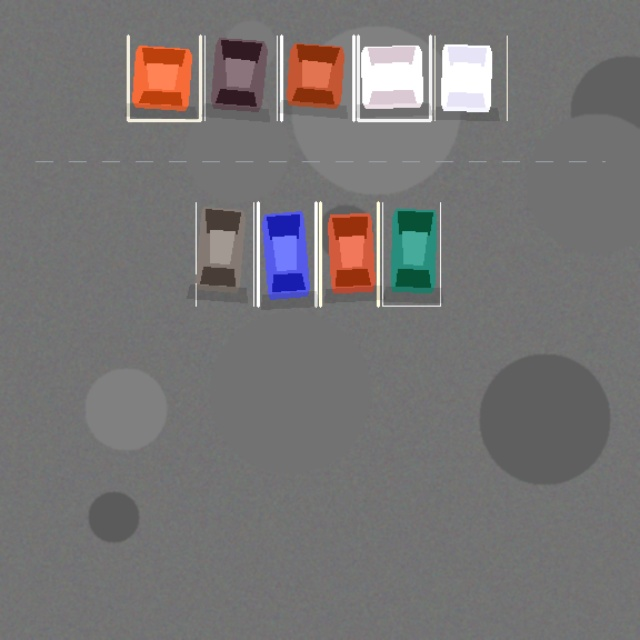space-occupied: (204, 36, 277, 120), (434, 36, 507, 120), (128, 36, 200, 120), (281, 36, 353, 120), (358, 36, 430, 120), (258, 202, 316, 306), (320, 202, 378, 306), (382, 202, 440, 306), (196, 202, 253, 306)
